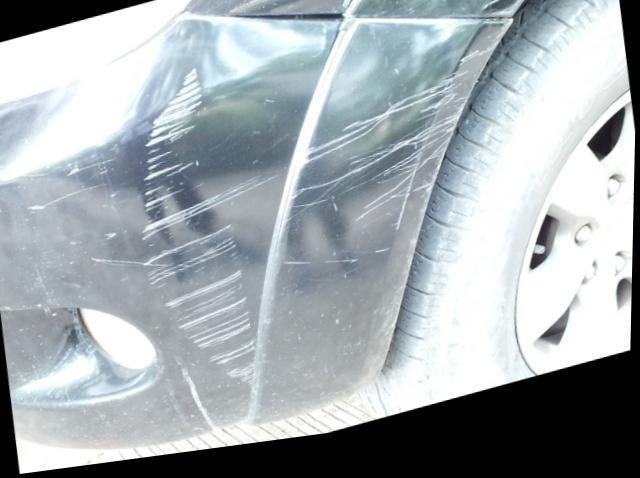scratch: (284, 58, 498, 281), (139, 67, 279, 401), (487, 0, 537, 28)
